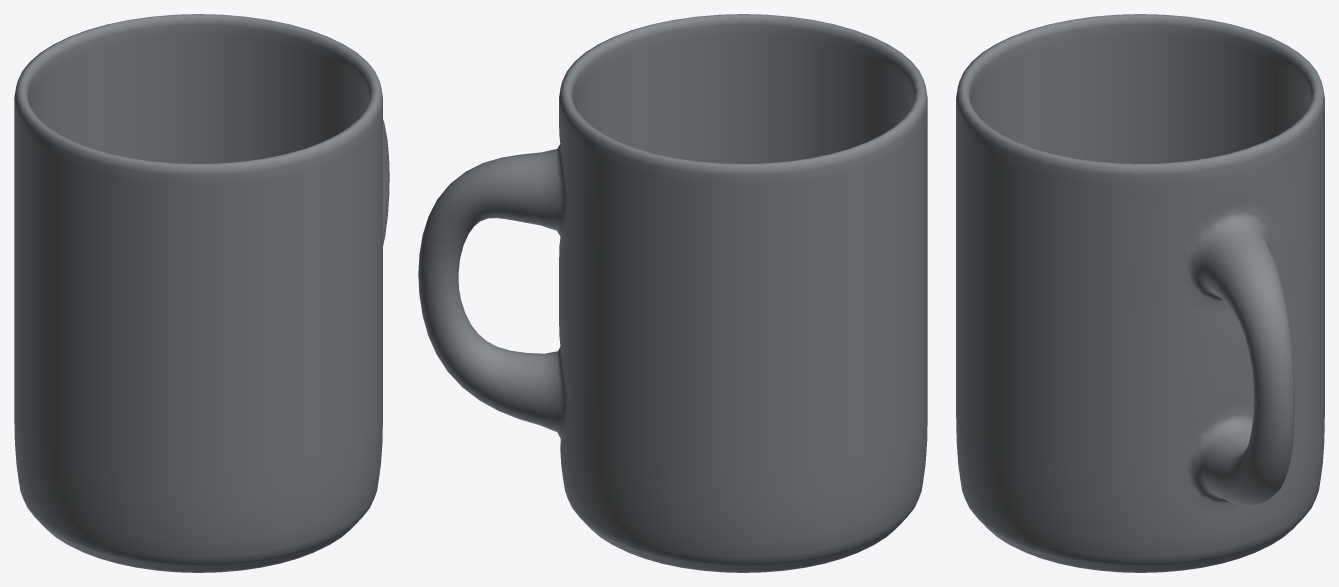
The model's file is FINISHED CUP.fbx.
3 views of the same model, side by side, from view 1: azimuth 30°, elevation 25°; view 2: azimuth 150°, elevation 25°; view 3: azimuth 270°, elevation 25° (orthographic).
Parts seen in each view (by area): view 1: pCylinder1; view 2: pCylinder1; view 3: pCylinder1.
Boxes of the visible parts, box(x1,y1,x2,y2) form: pCylinder1: box(14, 14, 389, 572); pCylinder1: box(418, 14, 927, 572); pCylinder1: box(956, 14, 1324, 572).
Size of the model in its own units: 10.74 by 10.3 by 8.27.
